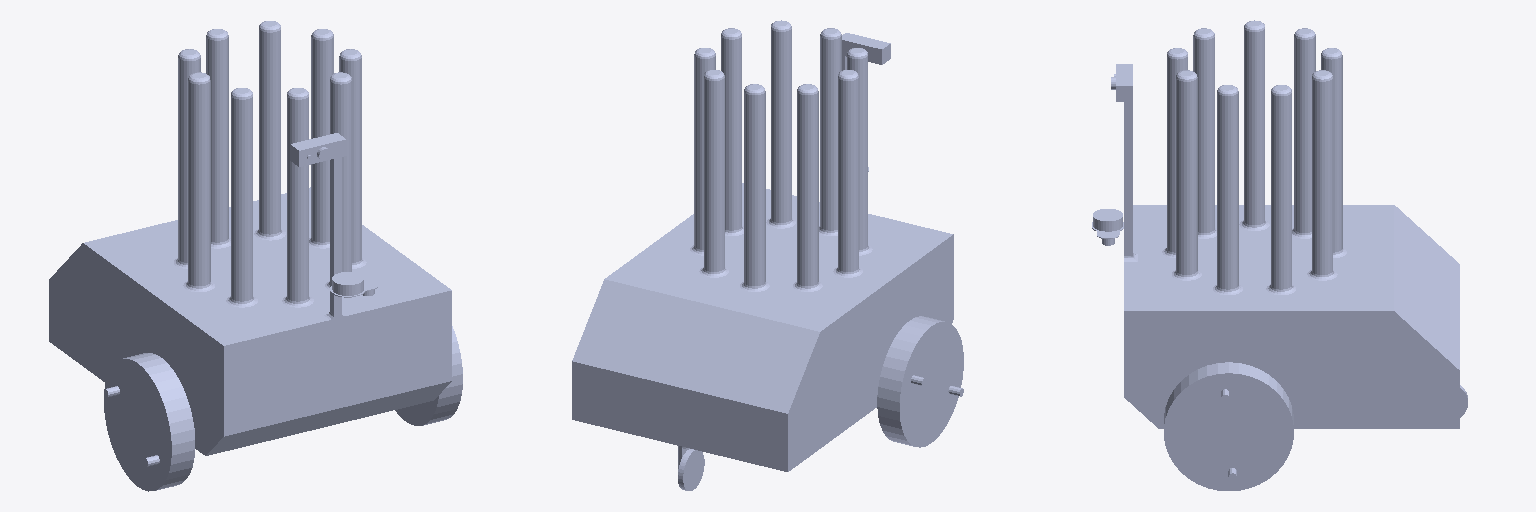
URDF robot description (autozuvc_urdf):
<?xml version="1.0" encoding="utf-8"?>
<!-- This URDF was automatically created by SolidWorks to URDF Exporter! Originally created by [author] ([email redacted]) 
     Commit Version: 1.5.1-0-g916b5db  Build Version: 1.5.7152.31018
     For more information, please see http://wiki.ros.org/sw_urdf_exporter -->
<robot
  name="autozuvc_urdf">
  <link
    name="base_link">
    <inertial>
      <origin
        xyz="2.6499E-06 -0.017438 0.024051"
        rpy="0 0 0" />
      <mass
        value="10" />
      <inertia
        ixx="8.3588"
        ixy="-0.0001332"
        ixz="7.7947E-05"
        iyy="6.1934"
        iyz="0.57541"
        izz="9.5271" />
    </inertial>
    <visual>
      <origin
        xyz="0 0 0"
        rpy="0 0 0" />
      <geometry>
        <mesh
          filename="package://autozuvc_urdf/meshes/base_link.STL" />
      </geometry>
      <material
        name="">
        <color
          rgba="0.79216 0.81961 0.93333 1" />
      </material>
    </visual>
    <collision>
      <origin
        xyz="0 0 0"
        rpy="0 0 0" />
      <geometry>
        <mesh
          filename="package://autozuvc_urdf/meshes/base_link.STL" />
      </geometry>
    </collision>
  </link>
  <link
    name="rwheel">
    <inertial>
      <origin
        xyz="0.030201 0 0"
        rpy="0 0 0" />
      <mass
        value="1" />
      <inertia
        ixx="0.047898"
        ixy="1.9365E-20"
        ixz="4.3729E-19"
        iyy="0.025154"
        iyz="0"
        izz="0.025342" />
    </inertial>
    <visual>
      <origin
        xyz="0 0 0"
        rpy="0 0 0" />
      <geometry>
        <mesh
          filename="package://autozuvc_urdf/meshes/rwheel.STL" />
      </geometry>
      <material
        name="">
        <color
          rgba="0.79216 0.81961 0.93333 1" />
      </material>
    </visual>
    <collision>
      <origin
        xyz="0 0 0"
        rpy="0 0 0" />
      <geometry>
        <mesh
          filename="package://autozuvc_urdf/meshes/rwheel.STL" />
      </geometry>
    </collision>
  </link>
  <joint
    name="rcontinuous"
    type="continuous">
    <origin
      xyz="0.31 -0.145 -0.12"
      rpy="1.65762925454521 0 0" />
    <parent
      link="base_link" />
    <child
      link="rwheel" />
    <axis
      xyz="1 0 0" />
  </joint>
  <link
    name="lwheel">
    <inertial>
      <origin
        xyz="0.030201 0 0"
        rpy="0 0 0" />
      <mass
        value="1" />
      <inertia
        ixx="0.047898"
        ixy="-4.9271E-20"
        ixz="-1.1775E-19"
        iyy="0.025154"
        iyz="-8.6736E-19"
        izz="0.025342" />
    </inertial>
    <visual>
      <origin
        xyz="0 0 0"
        rpy="0 0 0" />
      <geometry>
        <mesh
          filename="package://autozuvc_urdf/meshes/lwheel.STL" />
      </geometry>
      <material
        name="">
        <color
          rgba="0.79216 0.81961 0.93333 1" />
      </material>
    </visual>
    <collision>
      <origin
        xyz="0 0 0"
        rpy="0 0 0" />
      <geometry>
        <mesh
          filename="package://autozuvc_urdf/meshes/lwheel.STL" />
      </geometry>
    </collision>
  </link>
  <joint
    name="lcontinuous"
    type="continuous">
    <origin
      xyz="-0.31 -0.145 -0.12"
      rpy="2.63245317306069 0 3.14159265358979" />
    <parent
      link="base_link" />
    <child
      link="lwheel" />
    <axis
      xyz="1 0 0" />
  </joint>
  <link
    name="casterwheel">
    <inertial>
      <origin
        xyz="-0.0075 0 0"
        rpy="0 0 0" />
      <mass
        value="5" />
      <inertia
        ixx="0.00014725"
        ixy="2E-22"
        ixz="1.5913E-23"
        iyy="7.5811E-05"
        iyz="1.6941E-21"
        izz="7.5811E-05" />
    </inertial>
    <visual>
      <origin
        xyz="0 0 0"
        rpy="0 0 0" />
      <geometry>
        <mesh
          filename="package://autozuvc_urdf/meshes/casterwheel.STL" />
      </geometry>
      <material
        name="">
        <color
          rgba="0.79216 0.81961 0.93333 1" />
      </material>
    </visual>
    <collision>
      <origin
        xyz="0 0 0"
        rpy="0 0 0" />
      <geometry>
        <mesh
          filename="package://autozuvc_urdf/meshes/casterwheel.STL" />
      </geometry>
    </collision>
  </link>
  <joint
    name="ccontinuous"
    type="continuous">
    <origin
      xyz="-0.005 0.355 -0.22"
      rpy="1.25842195269479 0 0" />
    <parent
      link="base_link" />
    <child
      link="casterwheel" />
    <axis
      xyz="1 0 0" />
  </joint>
  <link
    name="camera">
    <inertial>
      <origin
        xyz="-7.1444E-05 0 0.00093026"
        rpy="0 0 0" />
      <mass
        value="1" />
      <inertia
        ixx="5.6104E-05"
        ixy="7.9132E-21"
        ixz="3.0738E-07"
        iyy="0.00026142"
        iyz="2.0853E-21"
        izz="0.00025732" />
    </inertial>
    <visual>
      <origin
        xyz="0 0 0"
        rpy="0 0 0" />
      <geometry>
        <mesh
          filename="package://autozuvc_urdf/meshes/camera.STL" />
      </geometry>
      <material
        name="">
        <color
          rgba="0.79216 0.81961 0.93333 1" />
      </material>
    </visual>
    <collision>
      <origin
        xyz="0 0 0"
        rpy="0 0 0" />
      <geometry>
        <mesh
          filename="package://autozuvc_urdf/meshes/camera.STL" />
      </geometry>
    </collision>
  </link>
  <joint
    name="cfixed"
    type="fixed">
    <origin
      xyz="-0.05 -0.385 0.57"
      rpy="1.5707963267949 0 0" />
    <parent
      link="base_link" />
    <child
      link="camera" />
    <axis
      xyz="0 0 0" />
  </joint>
  <link
    name="lidar">
    <inertial>
      <origin
        xyz="0.0068576 0.0087923 0"
        rpy="0 0 0" />
      <mass
        value="1" />
      <inertia
        ixx="5.1112E-05"
        ixy="1.6315E-05"
        ixz="3.2735E-21"
        iyy="0.00010945"
        iyz="-4.5534E-21"
        izz="8.8822E-05" />
    </inertial>
    <visual>
      <origin
        xyz="0 0 0"
        rpy="0 0 0" />
      <geometry>
        <mesh
          filename="package://autozuvc_urdf/meshes/lidar.STL" />
      </geometry>
      <material
        name="">
        <color
          rgba="0.79216 0.81961 0.93333 1" />
      </material>
    </visual>
    <collision>
      <origin
        xyz="0 0 0"
        rpy="0 0 0" />
      <geometry>
        <mesh
          filename="package://autozuvc_urdf/meshes/lidar.STL" />
      </geometry>
    </collision>
  </link>
  <joint
    name="lfixed"
    type="fixed">
    <origin
      xyz="0.00391941090707163 -0.4225 0.2345"
      rpy="1.5707963267949 0 0" />
    <parent
      link="base_link" />
    <child
      link="lidar" />
    <axis
      xyz="0 0 0" />
  </joint>
</robot>

--- Facts derived from the render (not from the file) ---
The picture shows the robot from 3 angles, left to right: view 1: azimuth 30°, elevation 25°; view 2: azimuth 150°, elevation 25°; view 3: azimuth 270°, elevation 25°; orthographic projection.
Model autozuvc_urdf with 6 links and 5 joints (3 continuous, 2 fixed), rooted at base_link, posed every joint at zero.
Visible links, largest first — view 1: base_link, lwheel, rwheel, camera, lidar; view 2: base_link, lwheel, camera, casterwheel; view 3: base_link, rwheel, lidar, camera.
Link boxes in pixels (x1,y1,x2,y2): base_link: (49, 21, 451, 455); lwheel: (104, 353, 194, 491); rwheel: (395, 326, 462, 425); camera: (290, 133, 346, 166); lidar: (330, 272, 377, 297); base_link: (572, 20, 953, 472); lwheel: (877, 316, 963, 447); camera: (842, 33, 890, 64); casterwheel: (678, 449, 704, 490); base_link: (1124, 20, 1459, 437); rwheel: (1164, 362, 1293, 490); lidar: (1092, 209, 1123, 245); camera: (1111, 64, 1132, 101).
Bounding box of the posed robot: 0.8 × 0.8649 × 0.93 m (x, y, z).
Meshes: 6 distinct files referenced, 6 mesh visuals loaded (6 binary STL).